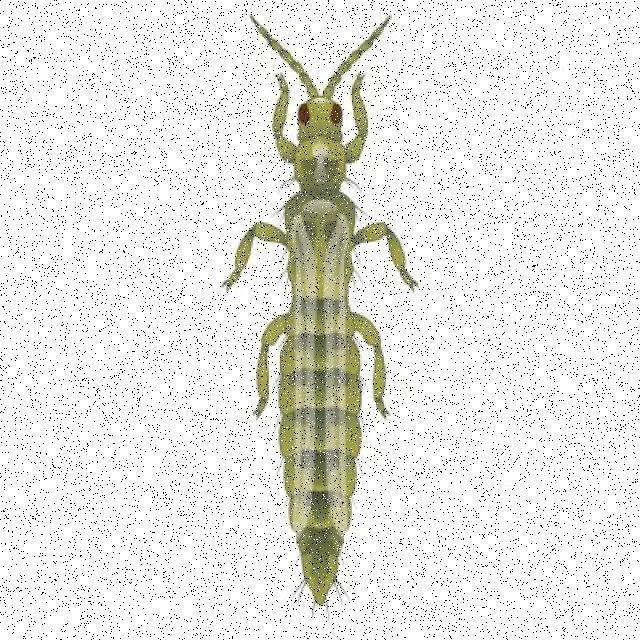Thrips: (213, 40, 447, 608)
